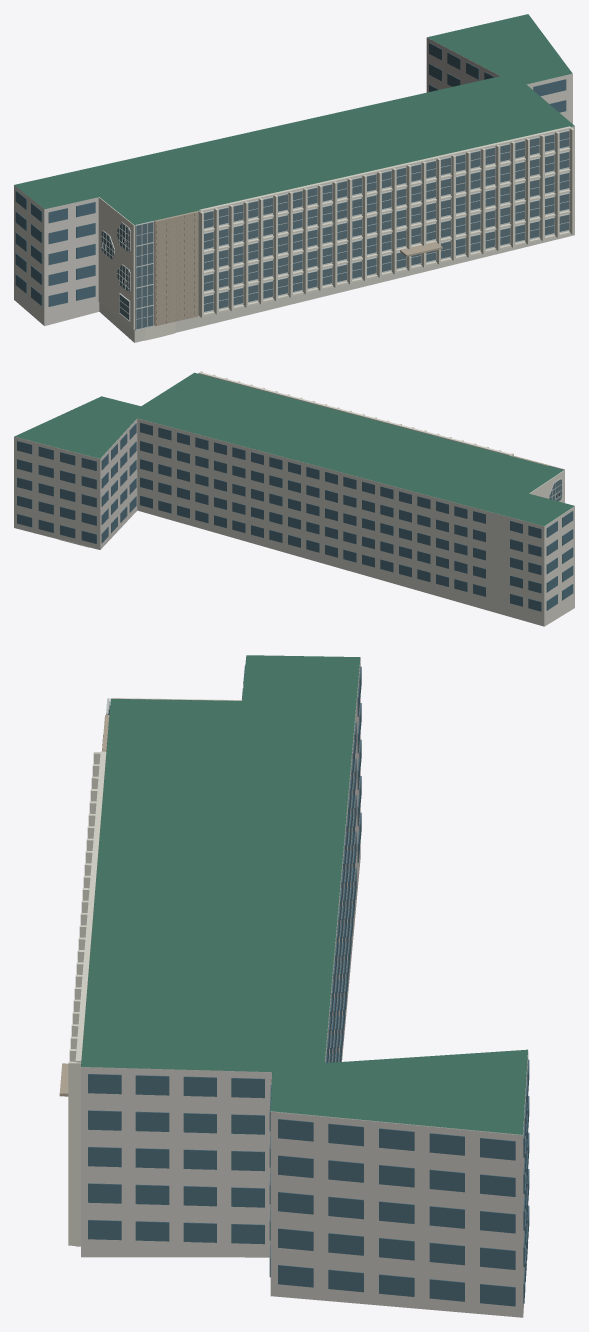
The model's file is intact.glb.
3 renders of one model, top to bottom at view 1: azimuth 30°, elevation 25°; view 2: azimuth 150°, elevation 25°; view 3: azimuth 270°, elevation 25°, orthographic. The views are drawn at different scales.
Parts seen in each view (by area): view 1: SM_468931920_Intact_00, SM_468931920_Intact_15, SM_468931920_Intact_18, SM_468931920_Intact_19, SM_468931920_Intact_16, SM_468931920_Intact_01, SM_468931920_Intact_12, SM_468931920_Intact_02, SM_468931920_Intact_09, SM_468931920_Intact_17, SM_468931920_Intact_13, SM_468931920_Intact_10 (+2 smaller); view 2: SM_468931920_Intact_00, SM_468931920_Intact_01, SM_468931920_Intact_19, SM_468931920_Intact_02; view 3: SM_468931920_Intact_00, SM_468931920_Intact_01, SM_468931920_Intact_18, SM_468931920_Intact_19.
Part boxes in pixels (box(x1,y1,x2,y2)): SM_468931920_Intact_00: box(14, 14, 574, 342); SM_468931920_Intact_15: box(204, 131, 568, 311); SM_468931920_Intact_18: box(198, 127, 574, 317); SM_468931920_Intact_19: box(199, 126, 571, 316); SM_468931920_Intact_16: box(203, 130, 569, 312); SM_468931920_Intact_01: box(15, 42, 566, 306); SM_468931920_Intact_12: box(154, 211, 197, 325); SM_468931920_Intact_02: box(98, 197, 134, 329); SM_468931920_Intact_09: box(136, 222, 152, 329); SM_468931920_Intact_17: box(204, 138, 569, 304); SM_468931920_Intact_13: box(155, 213, 197, 324); SM_468931920_Intact_10: box(135, 221, 153, 330); SM_468931920_Intact_00: box(14, 372, 574, 626); SM_468931920_Intact_01: box(17, 422, 573, 611); SM_468931920_Intact_19: box(198, 372, 510, 455); SM_468931920_Intact_02: box(529, 470, 564, 502); SM_468931920_Intact_00: box(81, 655, 528, 1317); SM_468931920_Intact_01: box(88, 665, 529, 1306); SM_468931920_Intact_18: box(68, 752, 100, 1245); SM_468931920_Intact_19: box(75, 751, 106, 1246).
Bounding box in the file's own units: 2.2 × 0.4426 × 0.9089.
